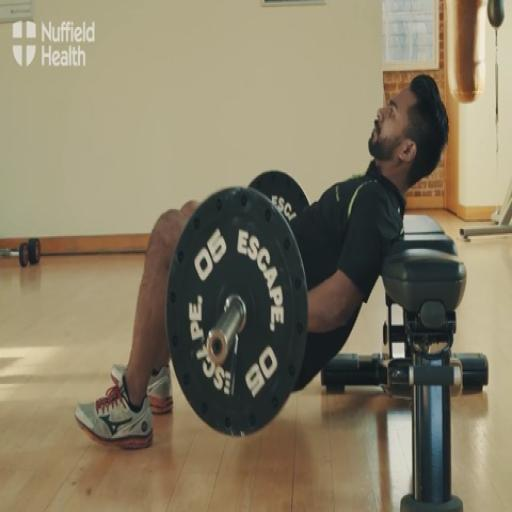exercise: (73, 71, 451, 452)
